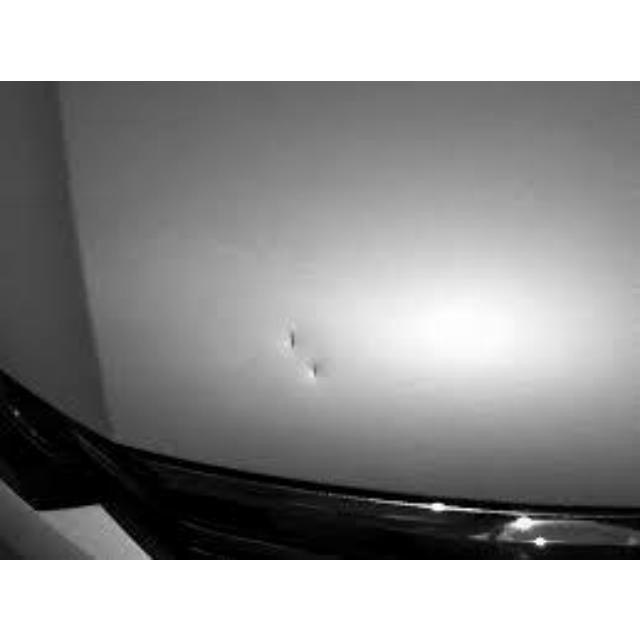bonnet-dent: (1, 83, 638, 530)
